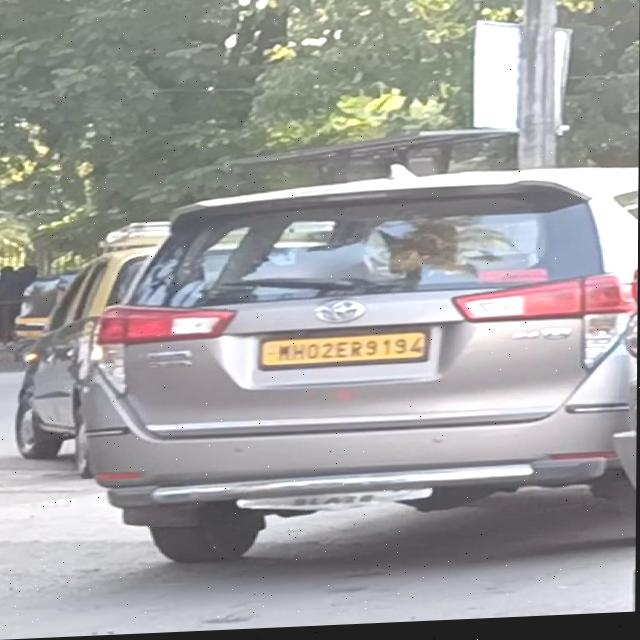plate: (257, 333, 431, 371)
